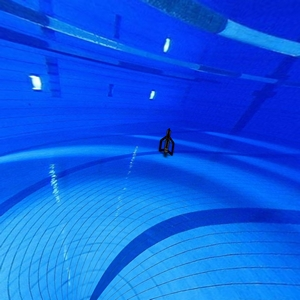submarine: (153, 124, 181, 163)
